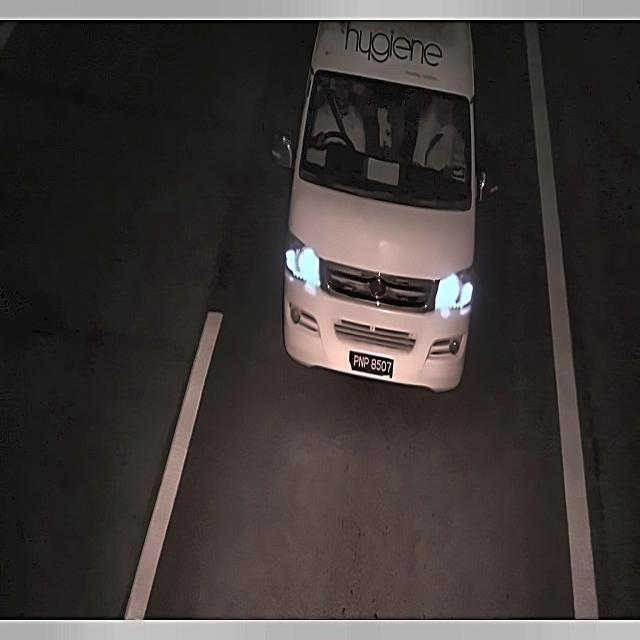car: (343, 344, 396, 381)
